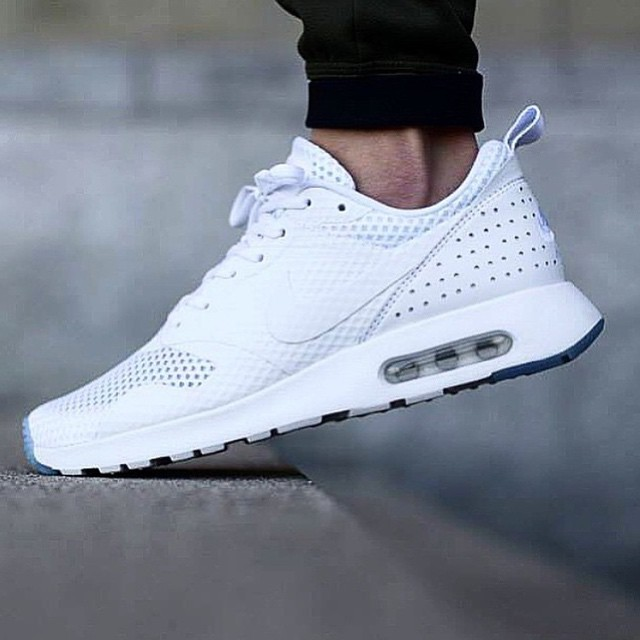sneaker: (2, 100, 635, 496)
